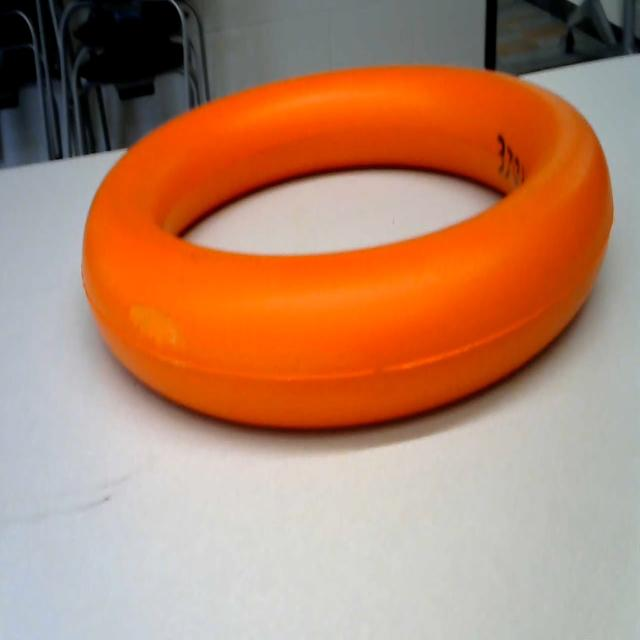note: (74, 44, 640, 489)
